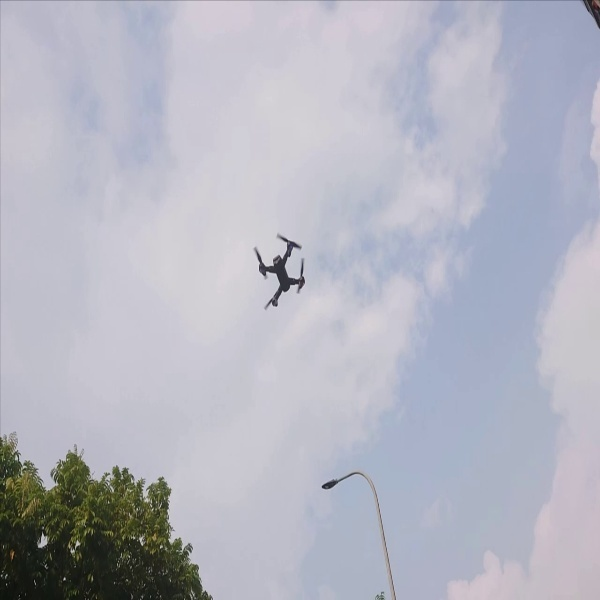drone: (239, 218, 328, 317)
